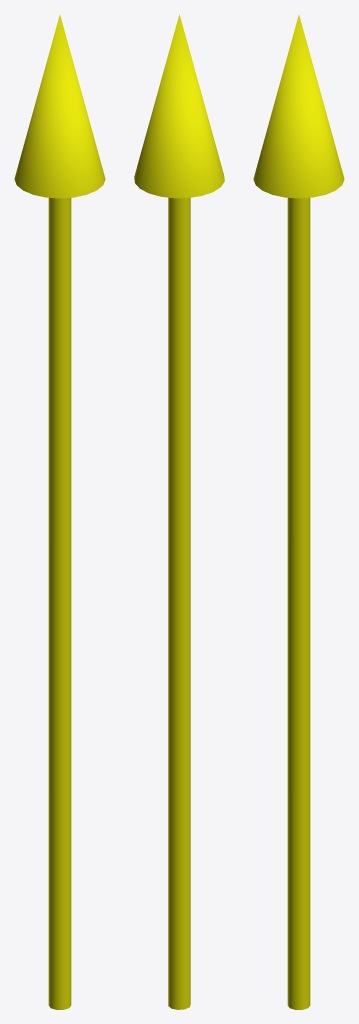
Rendered from Gizmo_Y_yellow_coneLine.fbx.
3 views of the same model, side by side, from view 1: azimuth 90°, elevation 25°; view 2: azimuth 210°, elevation 25°; view 3: azimuth 270°, elevation 25° (orthographic).
Parts seen in each view (by area): view 1: Gizmo_Y_yellow_coneLine; view 2: Gizmo_Y_yellow_coneLine; view 3: Gizmo_Y_yellow_coneLine.
Boxes of the visible parts, <box> form: Gizmo_Y_yellow_coneLine: <box>14,15,105,1009</box>; Gizmo_Y_yellow_coneLine: <box>134,14,224,1009</box>; Gizmo_Y_yellow_coneLine: <box>253,15,344,1009</box>.
Bounding box in the file's own units: 2 × 24 × 2.
